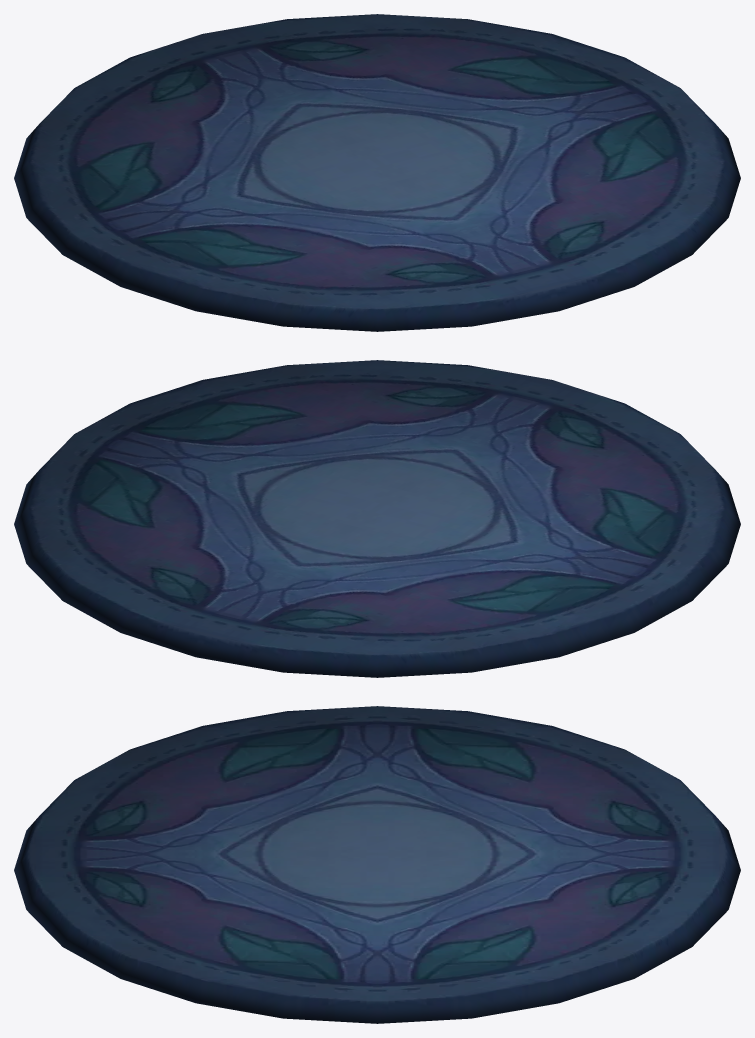
3 renders of one model, top to bottom at view 1: azimuth 30°, elevation 25°; view 2: azimuth 150°, elevation 25°; view 3: azimuth 270°, elevation 25°, orthographic.
Size of the model in its own units: 2.95 by 0.073 by 2.95.
1 material, 1 textured.
